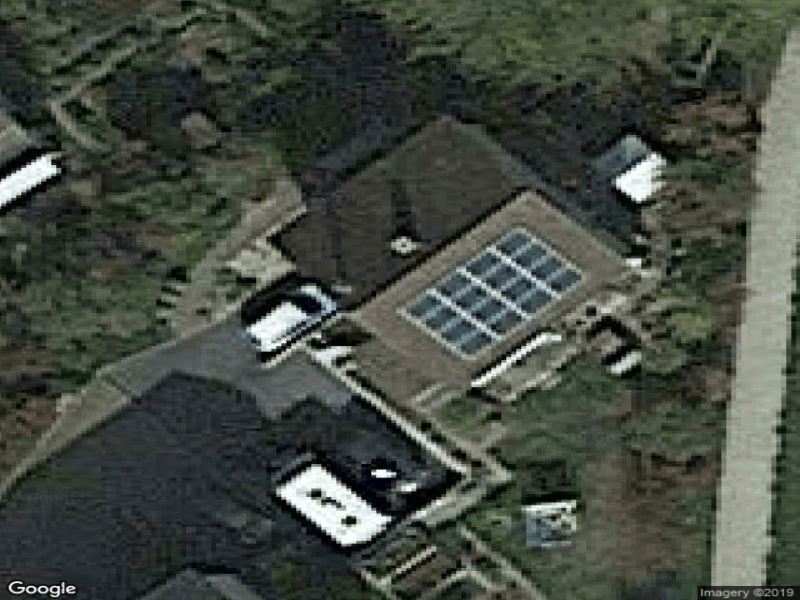pv: (409, 229, 582, 364)
